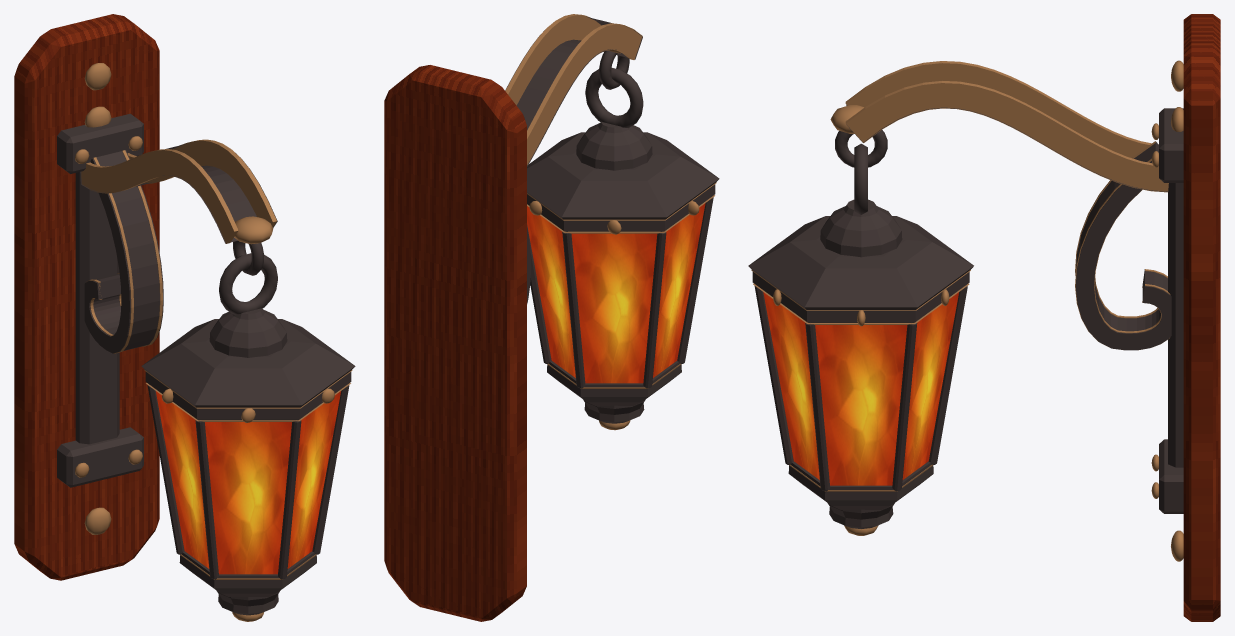
Rendered from wall-lantern.glb.
3 views of the same model, side by side, from view 1: azimuth 30°, elevation 25°; view 2: azimuth 150°, elevation 25°; view 3: azimuth 270°, elevation 25° (orthographic). The views are drawn at different scales.
Visible parts, largest first — view 1: wall-lantern; view 2: wall-lantern; view 3: wall-lantern.
Part boxes in pixels (left/top/right/bottom): wall-lantern: left=14, top=14, right=355, bottom=621; wall-lantern: left=384, top=14, right=719, bottom=621; wall-lantern: left=748, top=14, right=1220, bottom=621.
Size of the model in its own units: 0.3207 by 0.97 by 0.723.
Materials: 4 (2 with a texture image).
